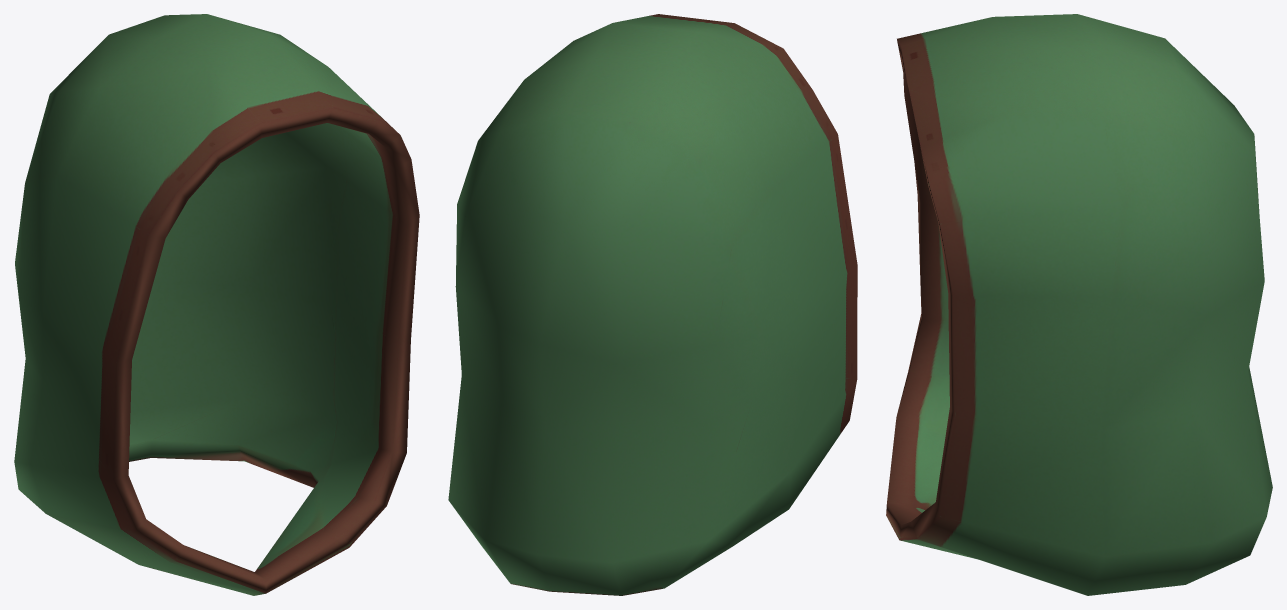
The model's file is head-ranger.glb.
The picture shows the model from 3 angles, left to right: view 1: azimuth 30°, elevation 25°; view 2: azimuth 150°, elevation 25°; view 3: azimuth 270°, elevation 25°; orthographic projection. The views are drawn at different scales.
Bounding box in the file's own units: 0.6533 × 0.9507 × 0.6533.
Materials: 1 (1 with a texture image).
